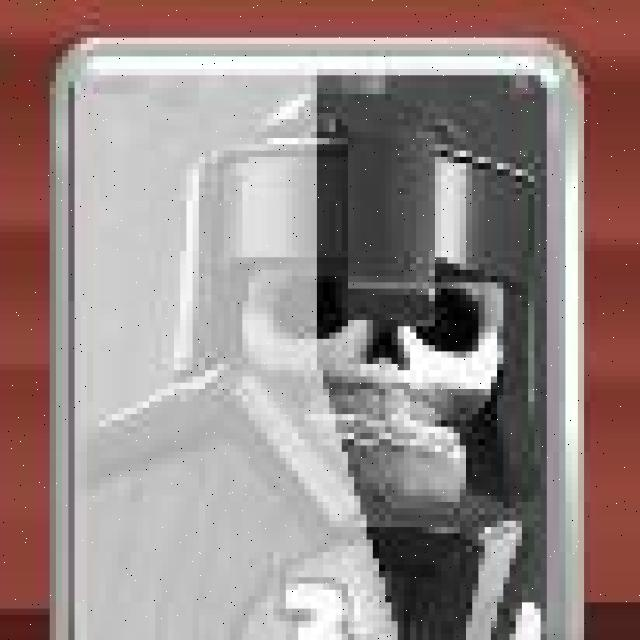Guards: (46, 30, 584, 640)
